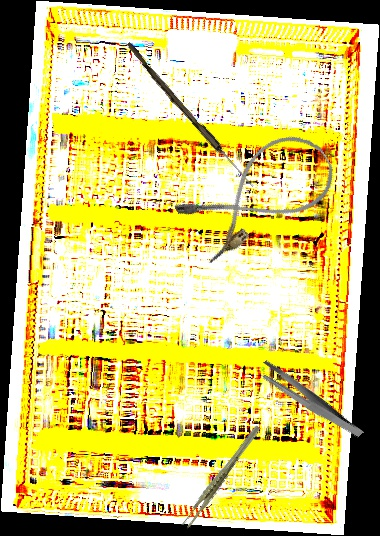Cannula: (171, 121, 345, 268)
Dressing Forceps: (255, 341, 365, 460)
Surgical Spoon: (123, 41, 257, 190)
Tissue Forceps: (165, 424, 278, 531)
